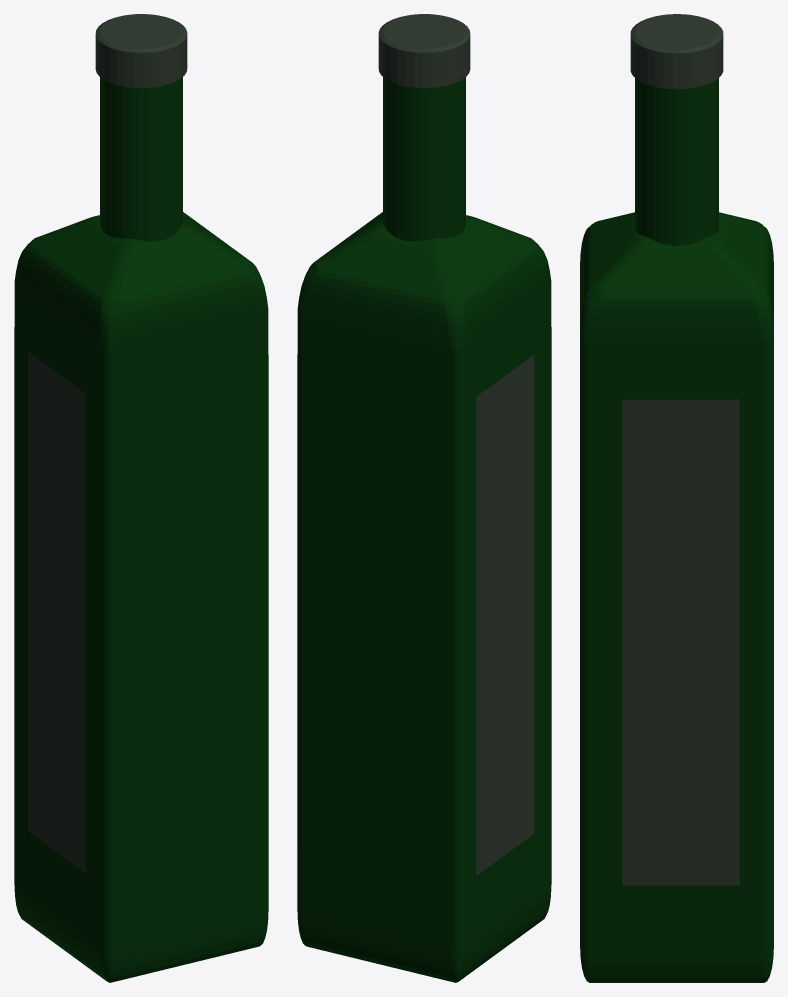
File: OilV1.fbx
3 renders of one model, left to right at view 1: azimuth 30°, elevation 25°; view 2: azimuth 150°, elevation 25°; view 3: azimuth 270°, elevation 25°, orthographic.
Parts seen in each view (by area): view 1: Cube; view 2: Cube; view 3: Cube.
Part boxes in pixels (bbox=[...]): Cube: bbox=[14, 14, 268, 982]; Cube: bbox=[297, 14, 551, 982]; Cube: bbox=[580, 14, 773, 982].
Size of the model in its own units: 62.89 by 62.89 by 327.
